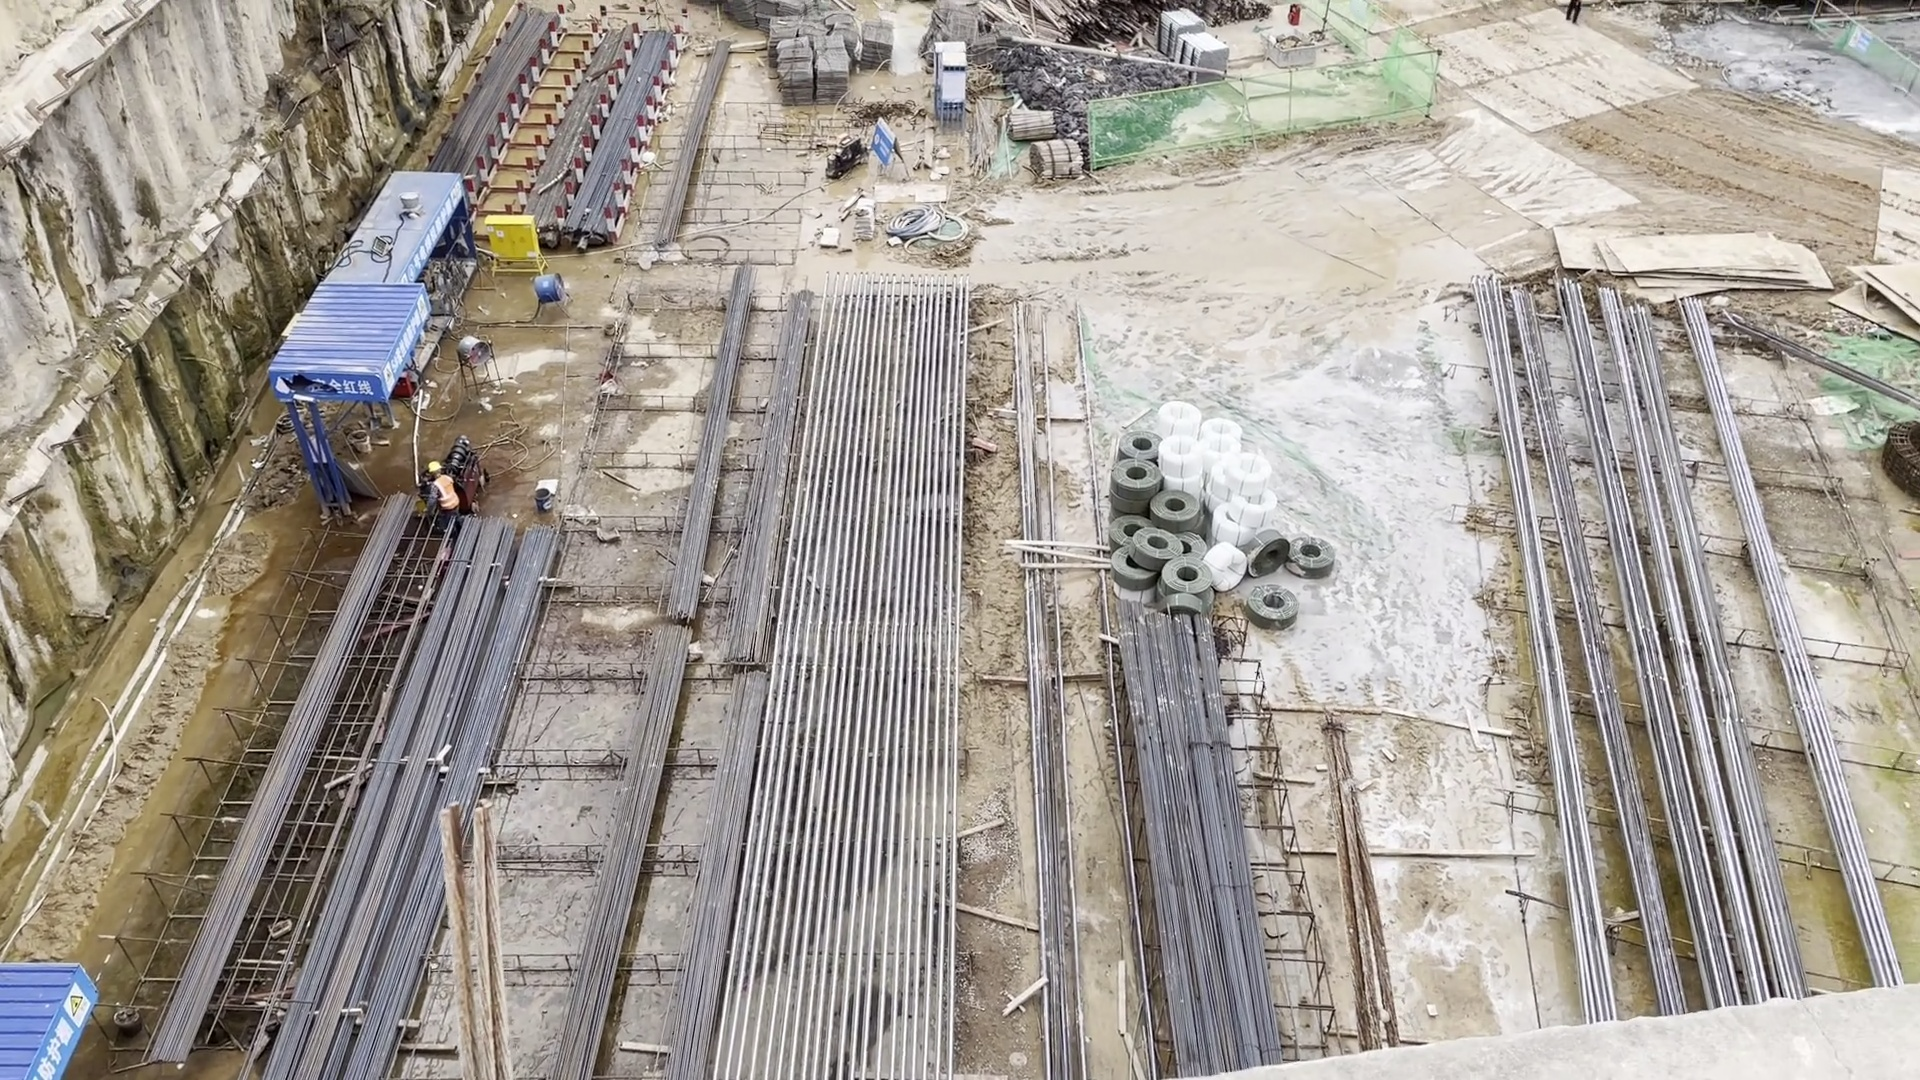brick: (1155, 12, 1238, 83)
ebox: (481, 212, 541, 274)
helmet: (426, 459, 443, 473)
hopper: (1265, 24, 1311, 73)
person: (426, 456, 465, 511)
rebar: (1515, 273, 1750, 992), (282, 521, 534, 1080), (1110, 595, 1285, 1080), (648, 260, 809, 660), (625, 676, 735, 1069), (474, 7, 647, 232), (150, 765, 261, 1065), (659, 36, 731, 244)
slogan: (27, 980, 106, 1080), (403, 185, 462, 285), (385, 303, 426, 387), (271, 367, 379, 396)
vest: (434, 475, 460, 511)
